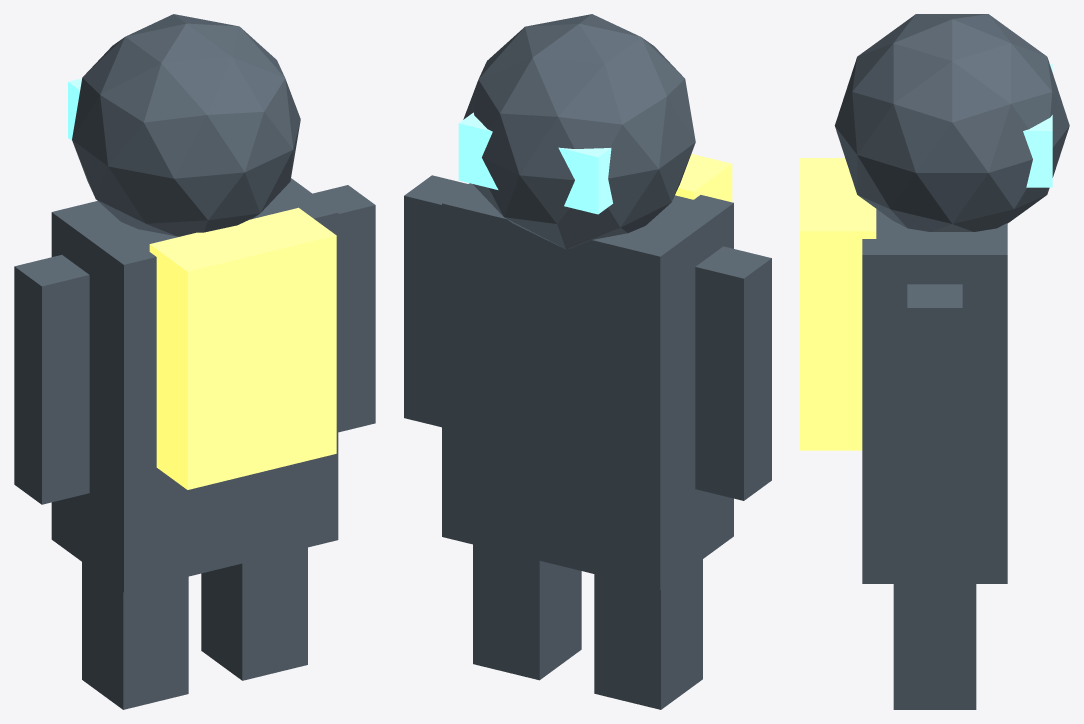
Rendered from player.glb.
3 views of the same model, side by side, from view 1: azimuth 30°, elevation 25°; view 2: azimuth 150°, elevation 25°; view 3: azimuth 270°, elevation 25° (orthographic).
Parts seen in each view (by area): view 1: Player, PlayerPack, PlayerHead, PlayerArmL, PlayerLegL, PlayerLegR, PlayerArmR; view 2: Player, PlayerHead, PlayerArmL, PlayerLegL, PlayerLegR, PlayerArmR, PlayerVisor, PlayerPack; view 3: Player, PlayerHead, PlayerPack, PlayerArmR, PlayerLegR, PlayerVisor.
Boxes of the visible parts, x1,y1,x2,y2 form: Player: [51, 178, 338, 592]; PlayerPack: [149, 207, 336, 489]; PlayerHead: [72, 14, 300, 236]; PlayerArmL: [14, 255, 89, 504]; PlayerLegL: [82, 562, 188, 709]; PlayerLegR: [201, 547, 307, 680]; PlayerArmR: [313, 185, 375, 432]; Player: [442, 183, 733, 590]; PlayerHead: [463, 14, 695, 249]; PlayerArmL: [695, 246, 771, 500]; PlayerLegL: [594, 559, 702, 709]; PlayerLegR: [473, 544, 581, 680]; PlayerArmR: [404, 175, 467, 427]; PlayerVisor: [458, 112, 612, 214]; PlayerPack: [675, 154, 732, 202]; Player: [862, 209, 1007, 583]; PlayerHead: [834, 14, 1069, 231]; PlayerPack: [800, 158, 876, 450]; PlayerArmR: [907, 284, 962, 527]; PlayerLegR: [893, 584, 976, 709]; PlayerVisor: [1023, 64, 1052, 187].
Size of the model in its own units: 1.12 by 2.06 by 0.78.
